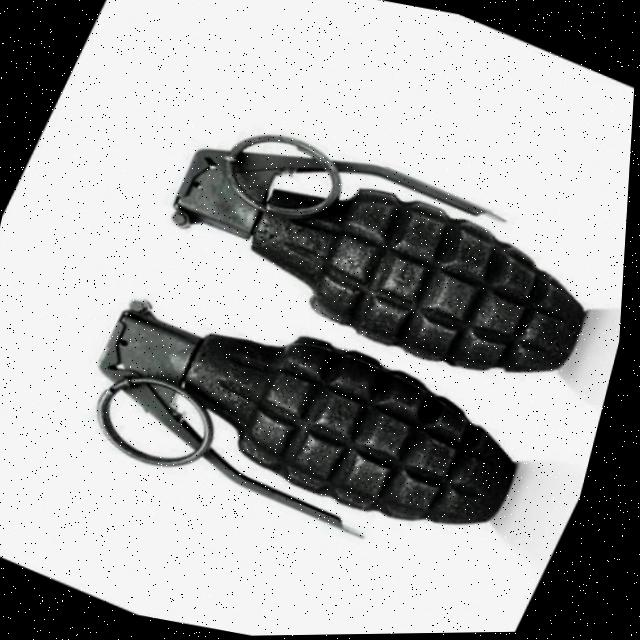grenade: (0, 43, 638, 615)
